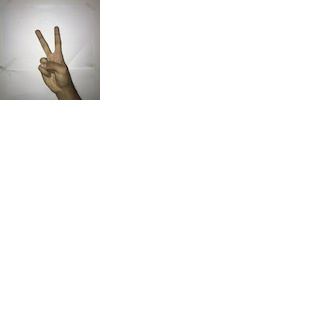scissors: (28, 20, 78, 94)
